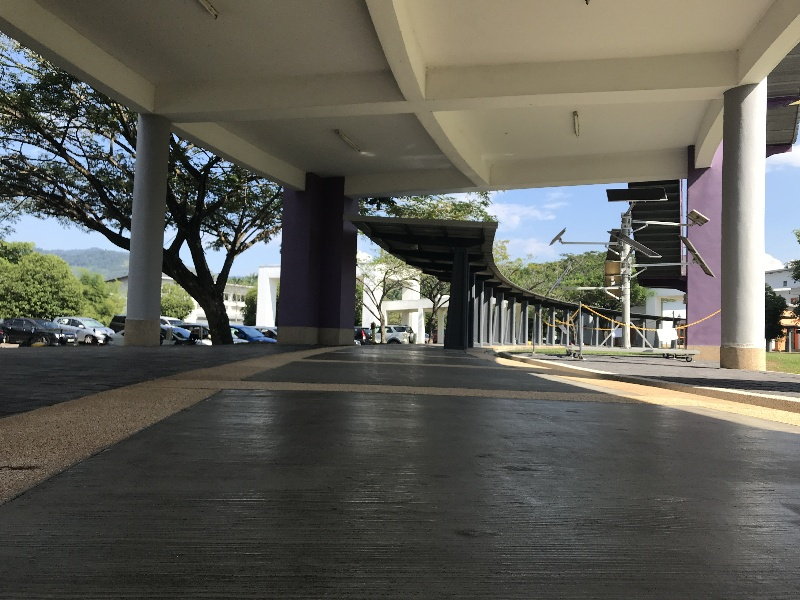Block D Pillar 5: (9, 4, 800, 561)
pillar: (713, 81, 780, 377), (275, 153, 368, 349), (679, 138, 730, 351), (122, 100, 165, 350), (437, 237, 481, 355)
